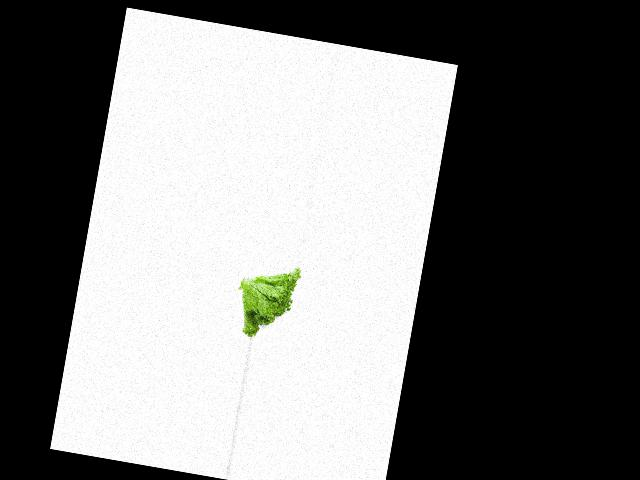lettuce: (232, 257, 304, 344)
